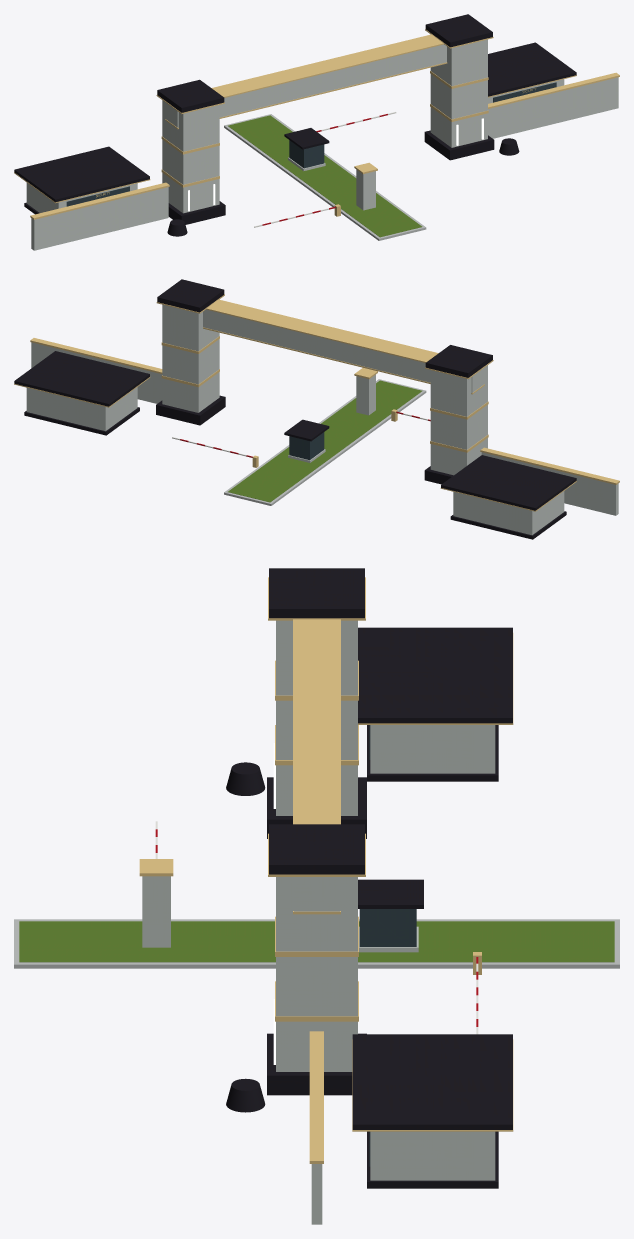
File: est_gate.glb
3 renders of one model, top to bottom at view 1: azimuth 30°, elevation 25°; view 2: azimuth 150°, elevation 25°; view 3: azimuth 270°, elevation 25°, orthographic. The views are drawn at different scales.
Visible parts, largest first — view 1: GR_est_gate; view 2: GR_est_gate; view 3: GR_est_gate.
Boxes of the visible parts, box(x1,y1,x2,y2) form: GR_est_gate: box(14, 14, 619, 250); GR_est_gate: box(14, 279, 619, 539); GR_est_gate: box(14, 568, 619, 1224).
Size of the model in its own units: 74.2 by 14.21 by 34.
3 materials, 1 textured.
